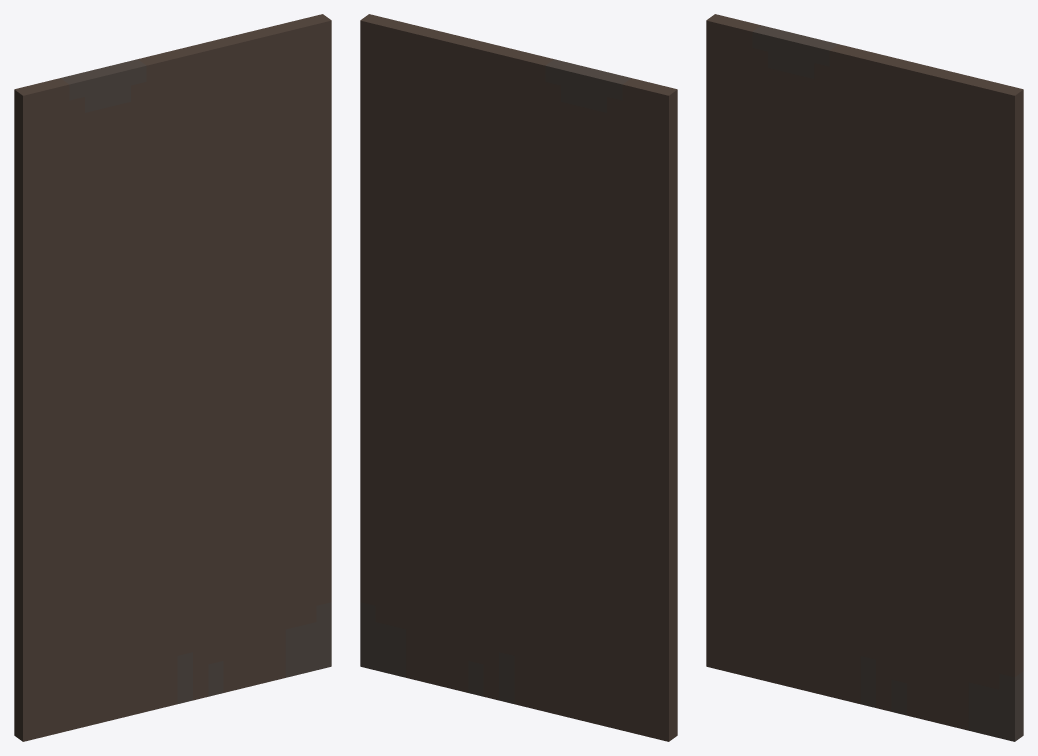
The model's file is porta1.glb.
3 views of the same model, side by side, from view 1: azimuth 30°, elevation 25°; view 2: azimuth 150°, elevation 25°; view 3: azimuth 330°, elevation 25° (orthographic).
Size of the model in its own units: 2 by 4 by 0.1.
Materials: 1 (1 with a texture image).
